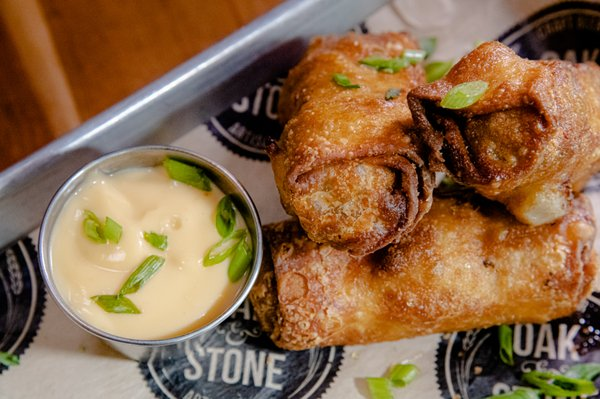soup: (249, 30, 600, 351)
sushi: (37, 146, 266, 349)
